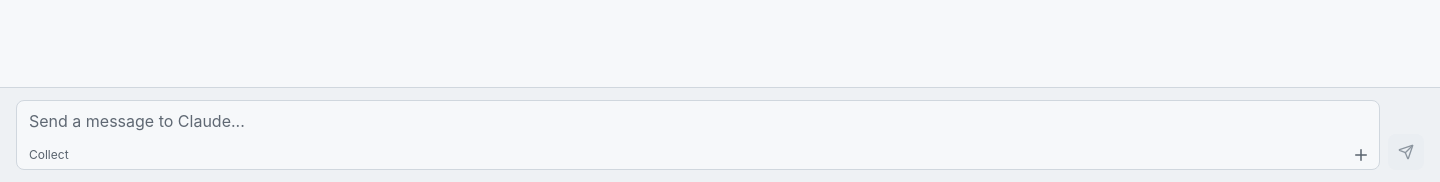
Test: / presets in the AcpChatView composer › preset without {{input}} and nothing typed after the token replaces without asking
The image size is (1440, 182).
Type "/review" into the text box with placeholder "Send a message to Claude...".
click(698, 121); type("/review")  # box x1=17 y1=101 x2=1379 y2=141
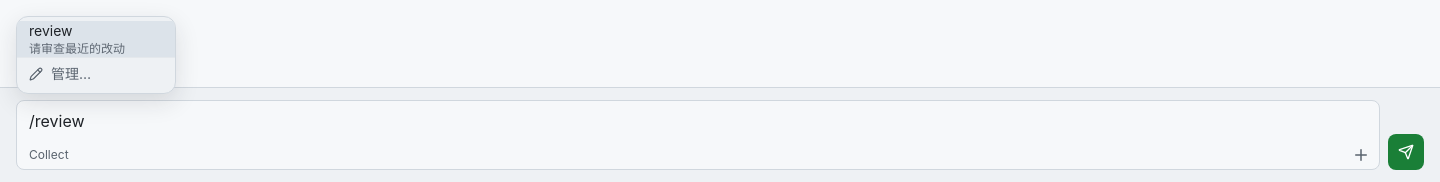
Click the option "review 请审查最近的改动".
click(96, 39)  # box x1=17 y1=21 x2=175 y2=57
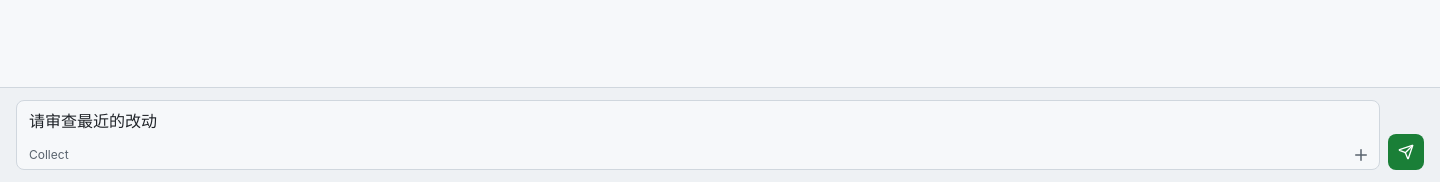
Expected: the text box with placeholder "Send a message to Claude..." holds "请审查最近的改动", x1=17 y1=101 x2=1379 y2=141
